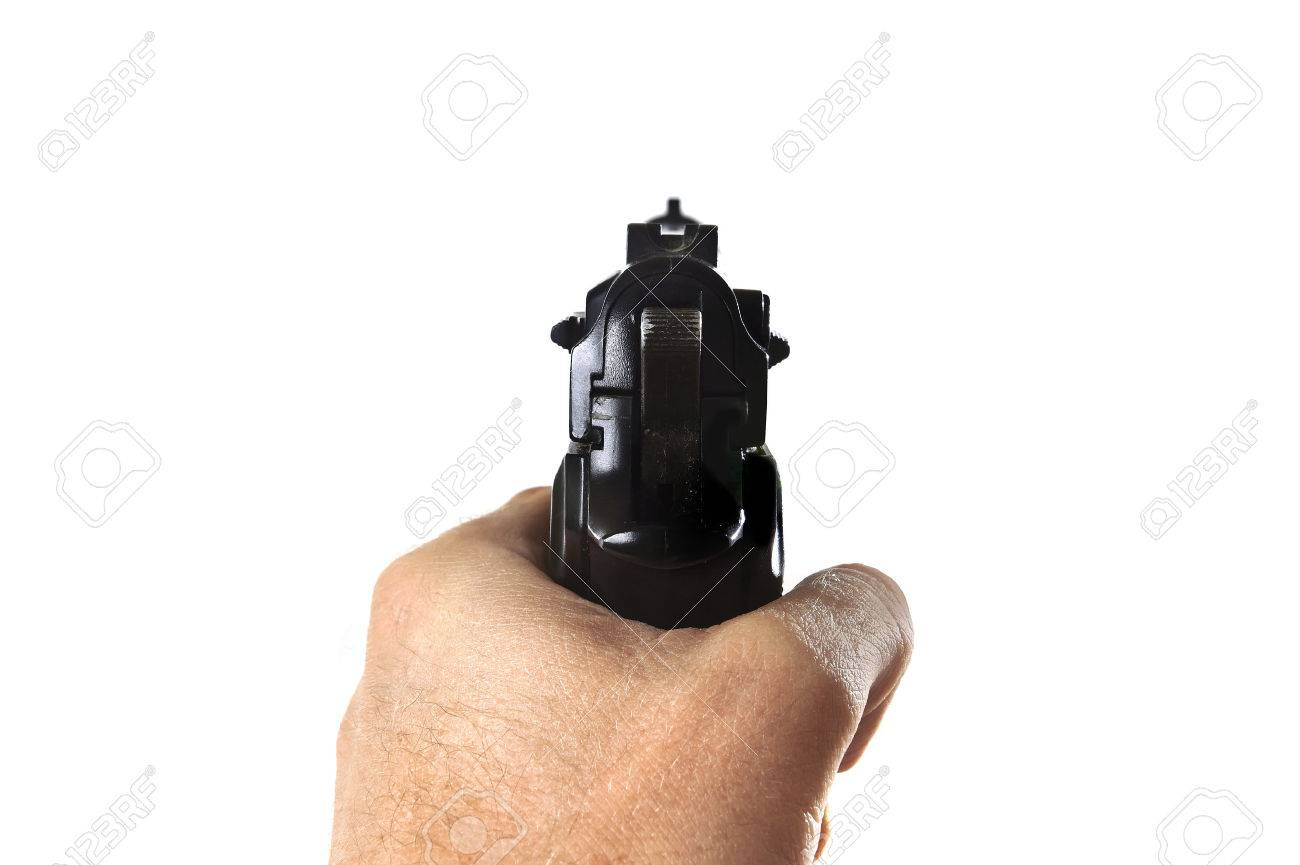pistol: (263, 98, 1008, 865)
